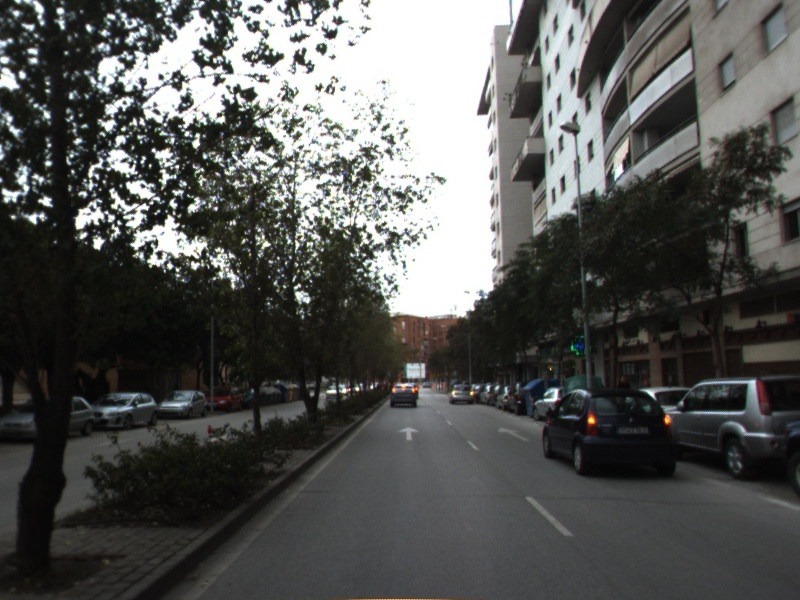STRAIGHT: (496, 425, 533, 444), (396, 425, 422, 442)
